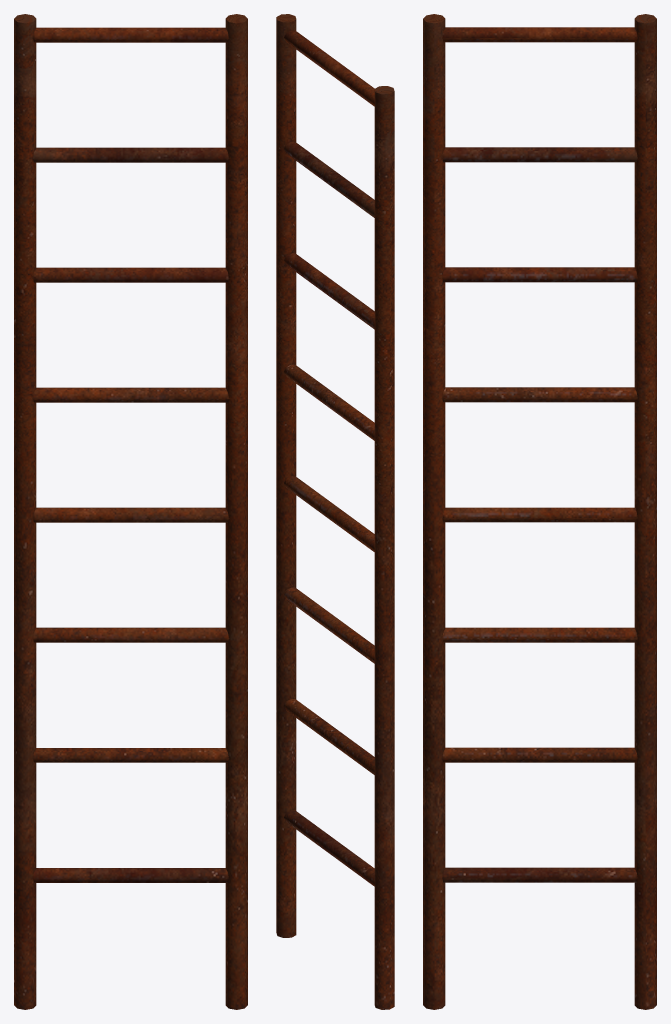
Rendered from ladder_joint.fbx.
3 views of the same model, side by side, from view 1: azimuth 90°, elevation 25°; view 2: azimuth 210°, elevation 25°; view 3: azimuth 270°, elevation 25° (orthographic). The views are drawn at different scales.
Visible parts, largest first — view 1: ladder_joint; view 2: ladder_joint; view 3: ladder_joint.
Boxes of the visible parts, left/top/right/bottom form: ladder_joint: left=14, top=14, right=247, bottom=1009; ladder_joint: left=276, top=14, right=394, bottom=1009; ladder_joint: left=423, top=14, right=656, bottom=1009.
Bounding box in the file's own units: 0.0846 × 4.11 × 0.8828.
